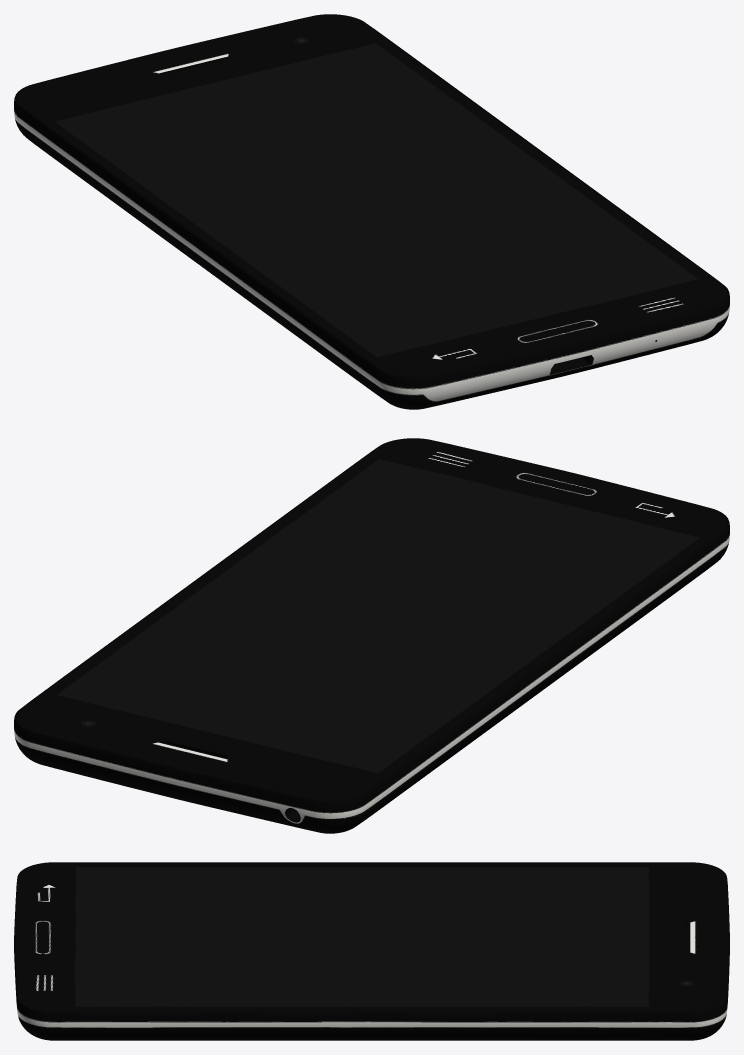
The model's file is phone1.obj.
3 renders of one model, top to bottom at view 1: azimuth 30°, elevation 25°; view 2: azimuth 150°, elevation 25°; view 3: azimuth 270°, elevation 25°, orthographic. The views are drawn at different scales.
Visible parts, largest first — view 1: celular_Cubo.002; view 2: celular_Cubo.002; view 3: celular_Cubo.002.
Part boxes in pixels (box(x1,y1,x2,y2)): celular_Cubo.002: box(14, 14, 729, 409); celular_Cubo.002: box(14, 438, 729, 833); celular_Cubo.002: box(14, 862, 729, 1040).
Size of the model in its own units: 0.0866 by 0.01 by 0.1731.
1 material, 1 textured.
